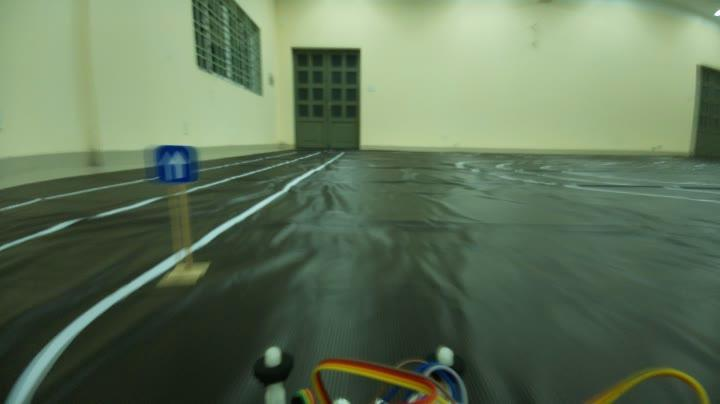onewayroad: (144, 138, 194, 194)
